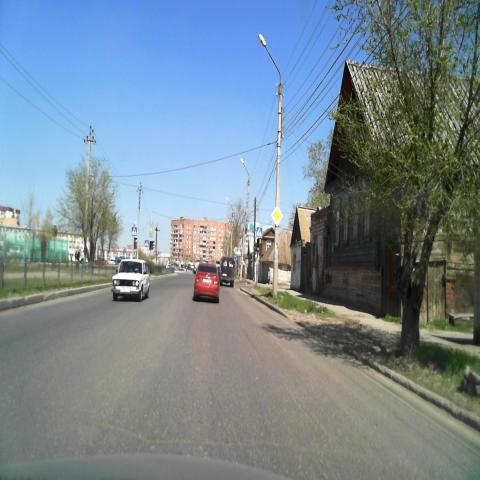2_1: (270, 205, 284, 227)
